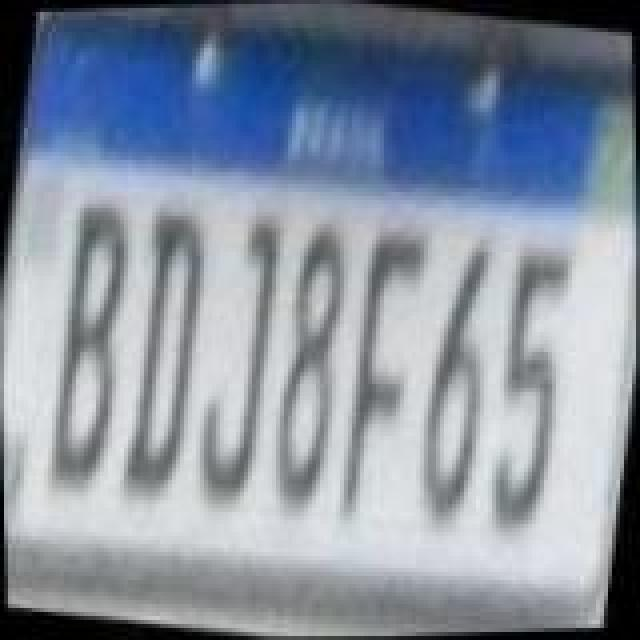5: (470, 236, 586, 540)
6: (400, 234, 512, 530)
8: (256, 218, 368, 514)
B: (28, 192, 144, 496)
D: (104, 198, 220, 502)
F: (324, 222, 436, 522)
J: (182, 208, 298, 512)
